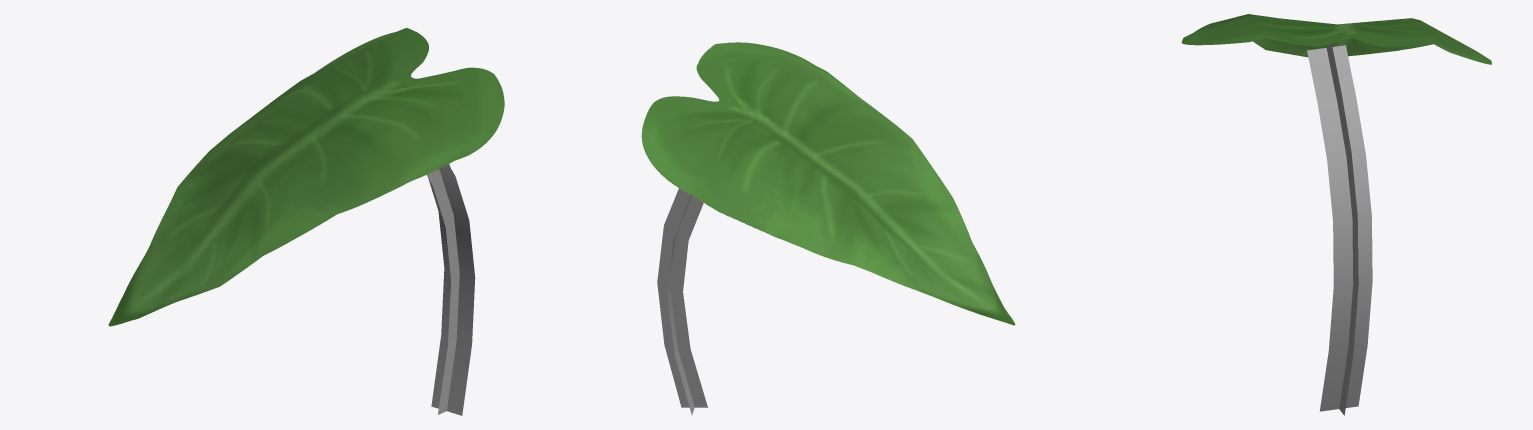
Rendered from HojaGrande3.fbx.
3 views of the same model, side by side, from view 1: azimuth 30°, elevation 25°; view 2: azimuth 150°, elevation 25°; view 3: azimuth 270°, elevation 25° (orthographic). The views are drawn at different scales.
Visible parts, largest first — view 1: HojaGrande3; view 2: HojaGrande3; view 3: HojaGrande3.
Part boxes in pixels (bbox=[...]): HojaGrande3: bbox=[108, 27, 504, 415]; HojaGrande3: bbox=[641, 42, 1015, 415]; HojaGrande3: bbox=[1181, 14, 1491, 415].
Size of the model in its own units: 414 by 359 by 317.
Materials: 2 (1 with a texture image).
